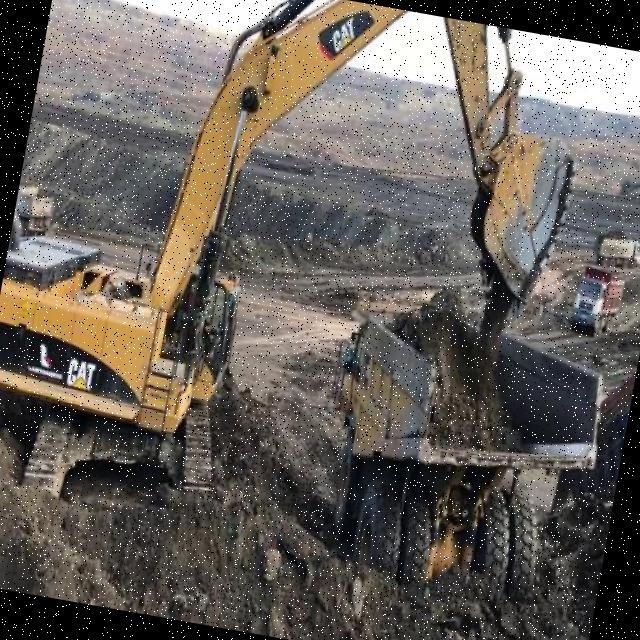Dump Truck: (302, 284, 620, 615), (566, 258, 626, 341), (11, 177, 58, 235), (589, 225, 640, 273)
Excavator: (0, 0, 598, 578)
